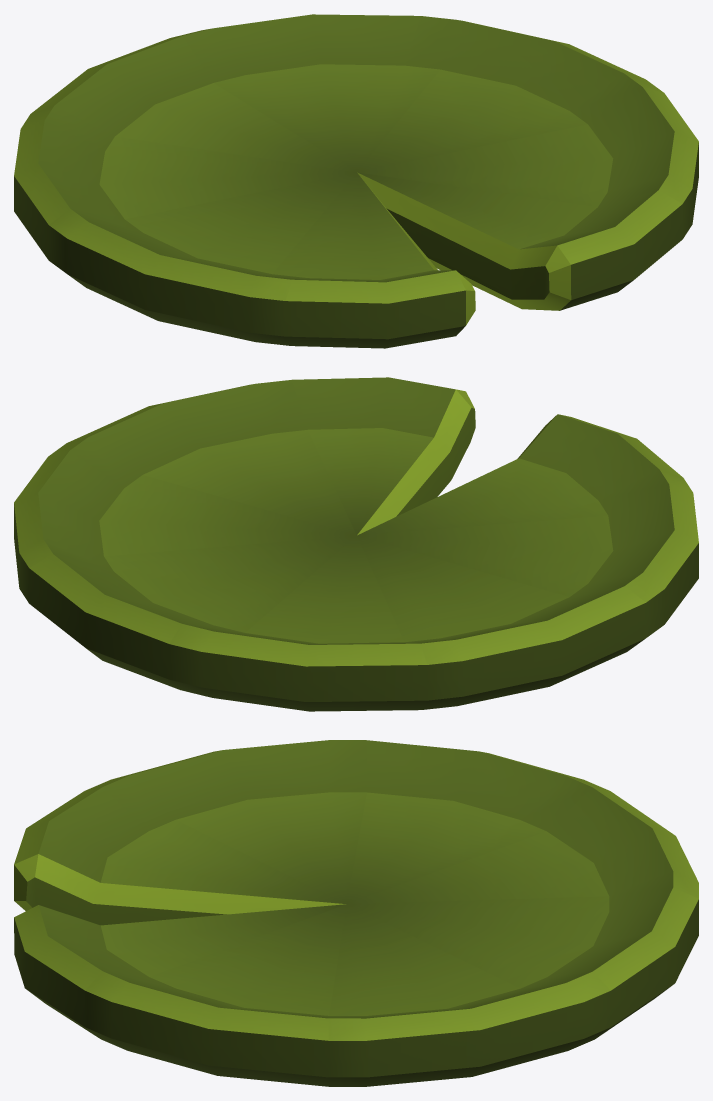
The model's file is lotus_leaf_small_LOD_group.fbx.
The picture shows the model from 3 angles, top to bottom: view 1: azimuth 30°, elevation 25°; view 2: azimuth 150°, elevation 25°; view 3: azimuth 270°, elevation 25°; orthographic projection. The views are drawn at different scales.
Parts seen in each view (by area): view 1: lotus_leaf_small_LOD0; view 2: lotus_leaf_small_LOD0; view 3: lotus_leaf_small_LOD0.
Part boxes in pixels (bbox=[...]): lotus_leaf_small_LOD0: bbox=[14, 14, 698, 348]; lotus_leaf_small_LOD0: bbox=[14, 377, 698, 711]; lotus_leaf_small_LOD0: bbox=[14, 740, 698, 1086].
Size of what is drawn, in the model's own units: 132 by 17.4 by 127.
1 material, 1 textured.
